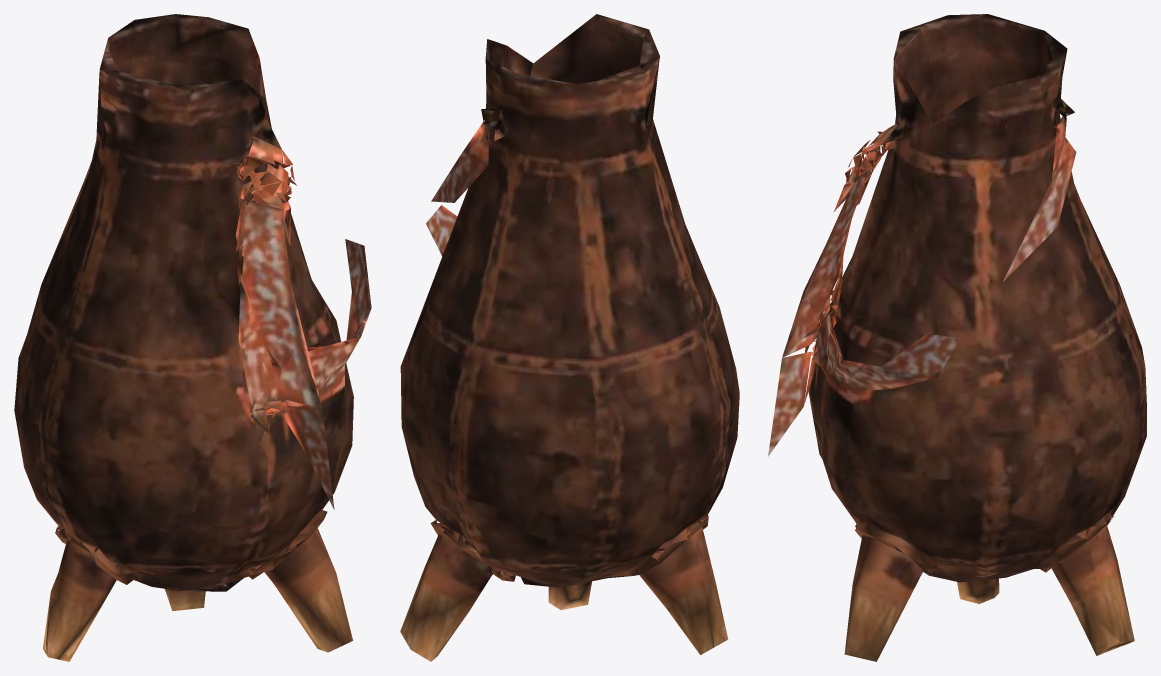
The model's file is kumis-churn.phone.glb.
3 renders of one model, left to right at view 1: azimuth 30°, elevation 25°; view 2: azimuth 150°, elevation 25°; view 3: azimuth 270°, elevation 25°, orthographic.
Parts seen in each view (by area): view 1: kumis-churn.raw; view 2: kumis-churn.raw; view 3: kumis-churn.raw.
Boxes of the visible parts, box(x1,y1,x2,y2) form: kumis-churn.raw: box(14, 14, 371, 661); kumis-churn.raw: box(400, 14, 739, 661); kumis-churn.raw: box(768, 14, 1146, 661).
Size of the model in its own units: 0.6038 by 1.1 by 0.6645.
Materials: 1 (1 with a texture image).
